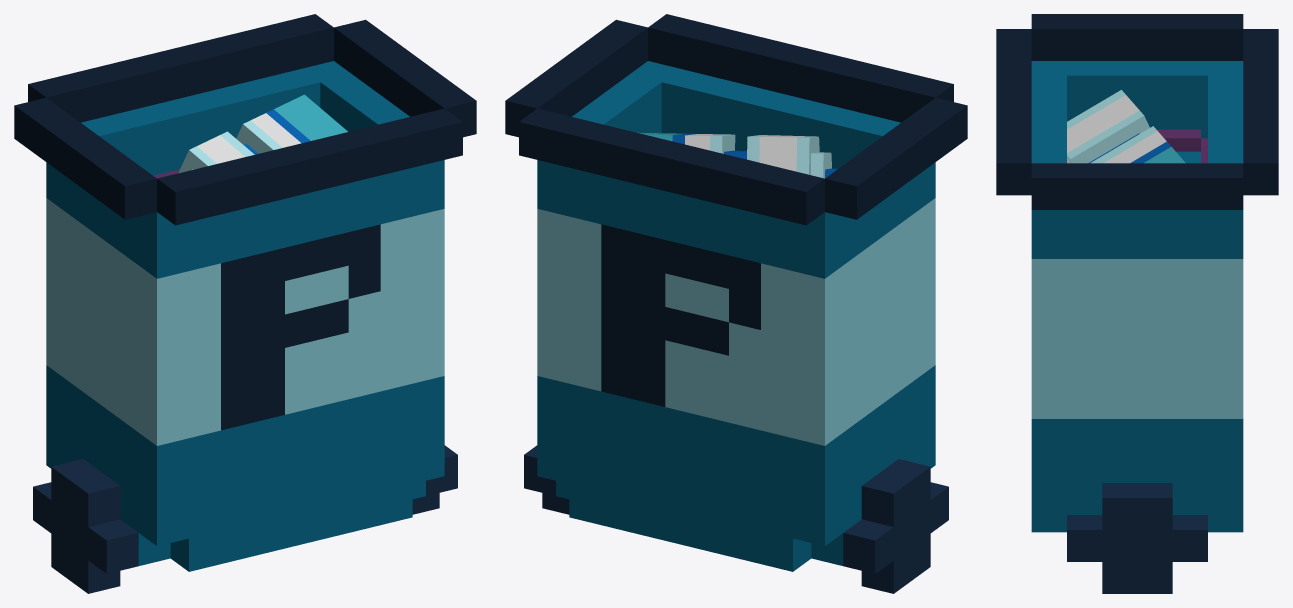
File: conplashalf.gltf
3 renders of one model, left to right at view 1: azimuth 30°, elevation 25°; view 2: azimuth 150°, elevation 25°; view 3: azimuth 270°, elevation 25°, orthographic. The views are drawn at different scales.
Parts seen in each view (by area): view 1: Object_0.001, Object_0.006; view 2: Object_0.001, Object_0.006; view 3: Object_0.001, Object_0.006, Object_0.
Part boxes in pixels (x1,y1,x2,y2): Object_0.001: [14, 14, 476, 593]; Object_0.006: [178, 94, 347, 173]; Object_0.001: [505, 14, 967, 593]; Object_0.006: [637, 132, 837, 178]; Object_0.001: [996, 14, 1278, 593]; Object_0.006: [1067, 90, 1185, 163]; Object_0: [1157, 129, 1207, 163].
Size of the model in its own units: 1.87 by 2.21 by 1.36.
3 materials, 3 textured.
